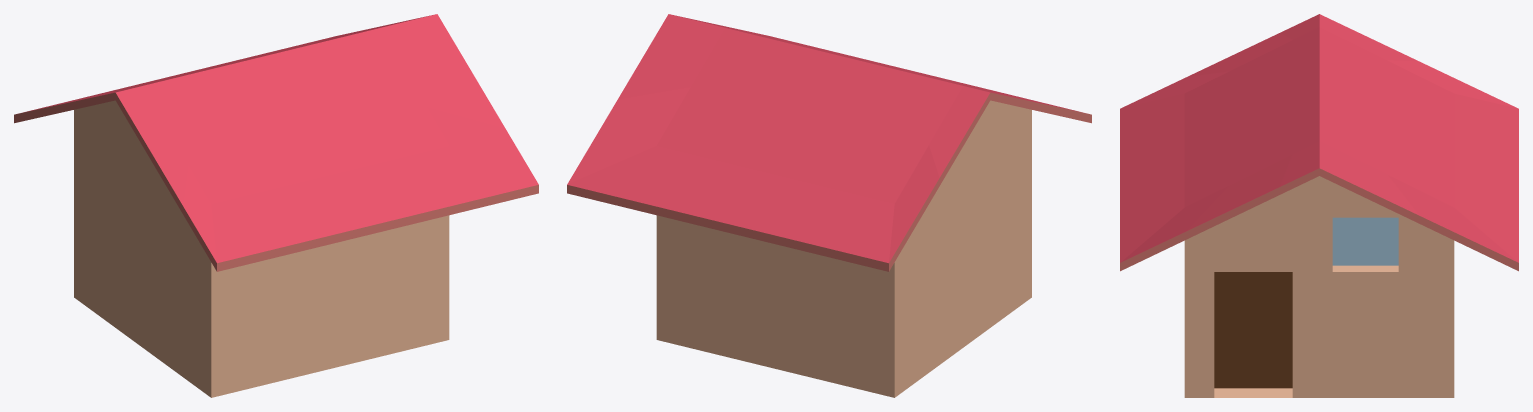
3 renders of one model, left to right at view 1: azimuth 30°, elevation 25°; view 2: azimuth 150°, elevation 25°; view 3: azimuth 270°, elevation 25°, orthographic.
Visible parts, largest first — view 1: Ev_3; view 2: Ev_3; view 3: Ev_3.
Boxes of the visible parts, x1,y1,x2,y2 form: Ev_3: (14, 14, 538, 397); Ev_3: (567, 14, 1091, 397); Ev_3: (1120, 14, 1518, 397).
Size of the model in its own units: 569 by 442 by 622.
